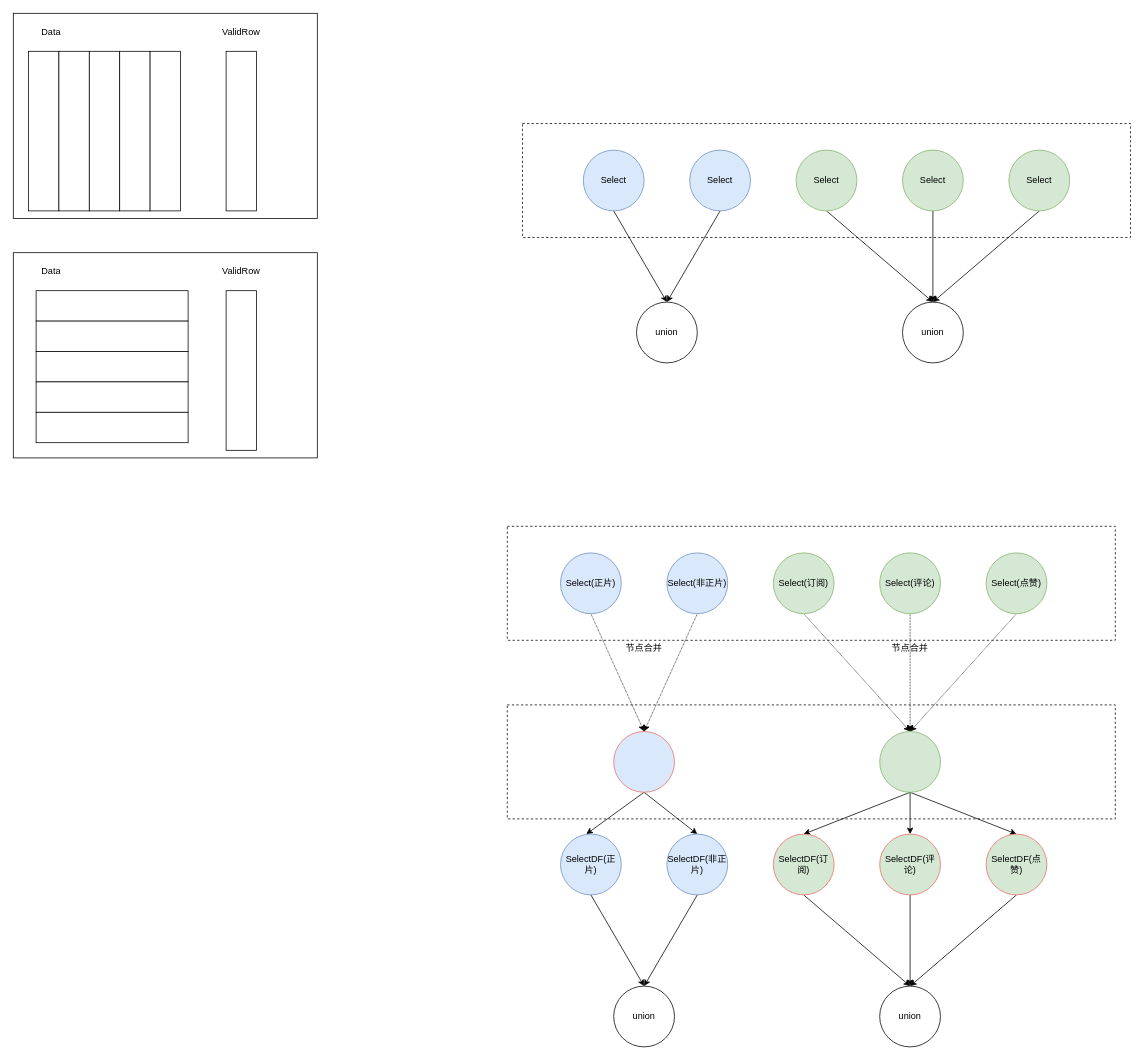
This 1144x1060 diagram has some shape labels left out. The shapes that lost their labels are listed below. From the top down, each one's box as (x1, y1, x2, y2) in pixels, then its label:
(613, 731, 674, 792): SelectBatch( 正片,非正片)
(879, 731, 940, 792): SelectBatch(订阅,评论,点赞)
